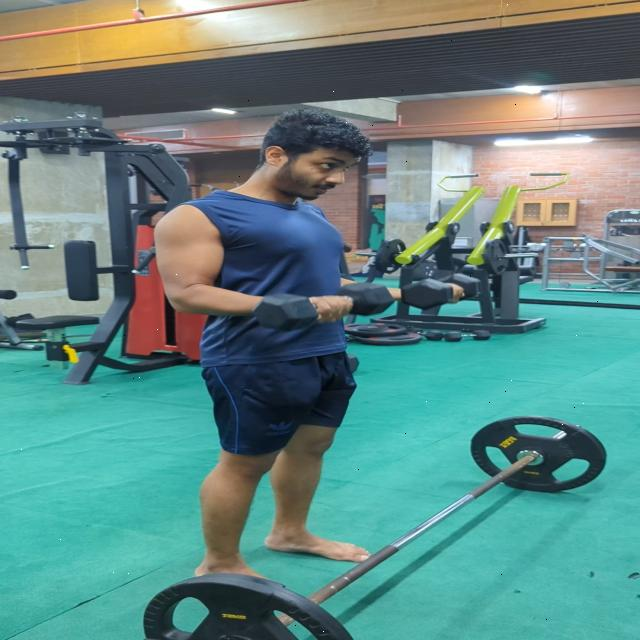Normal_DumbbellBicepCurls: (151, 109, 467, 576)
